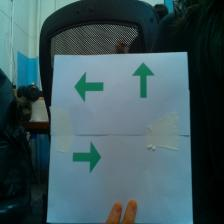left: (74, 71, 104, 102)
right: (72, 143, 100, 173)
